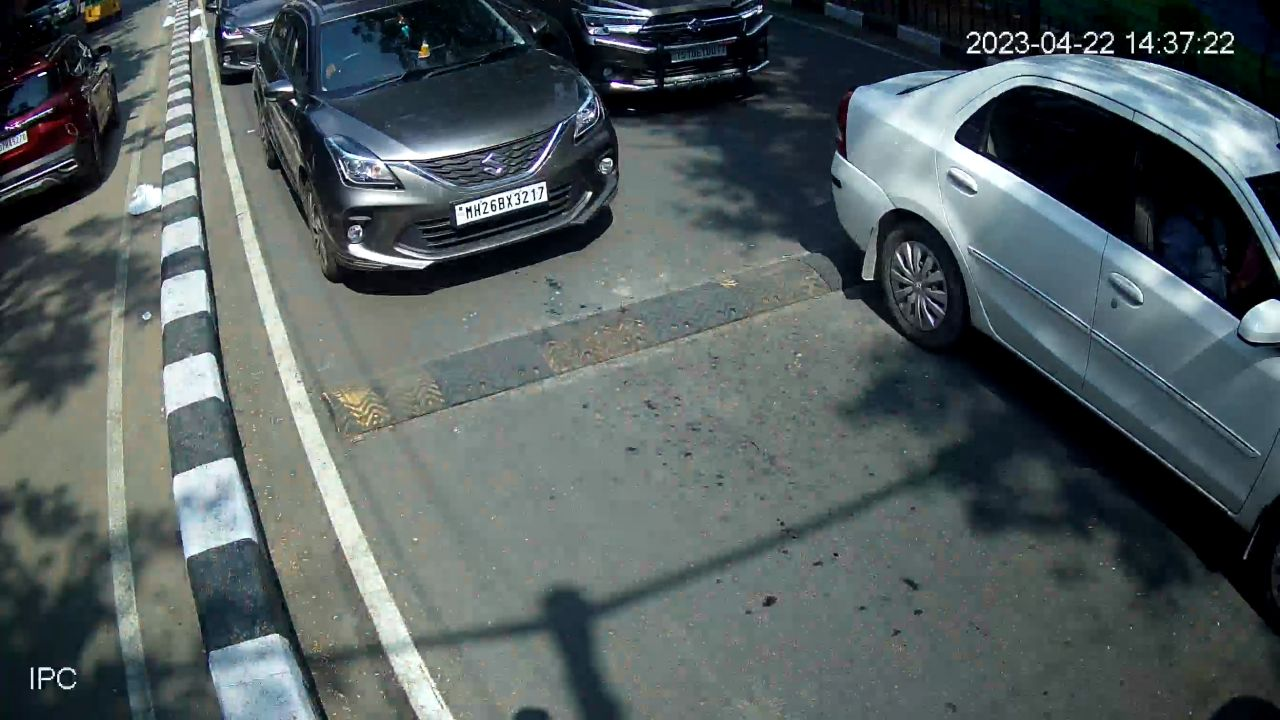license_plate: (447, 175, 551, 230), (662, 39, 730, 67)
